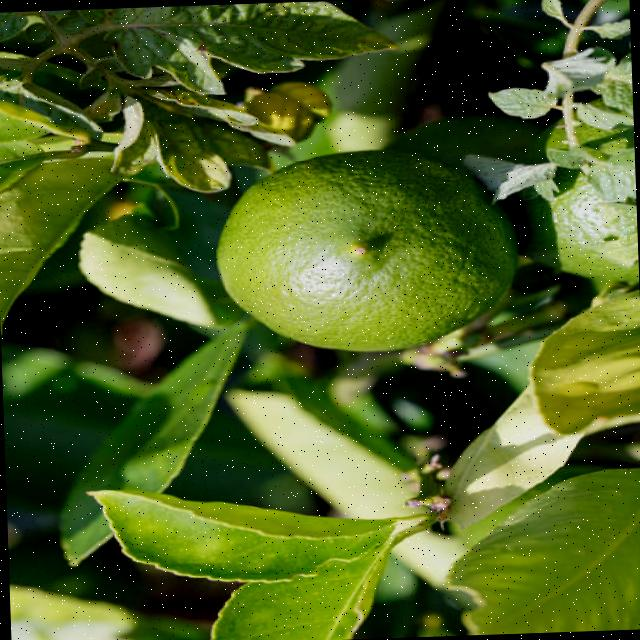Unripe: (211, 142, 520, 356)
